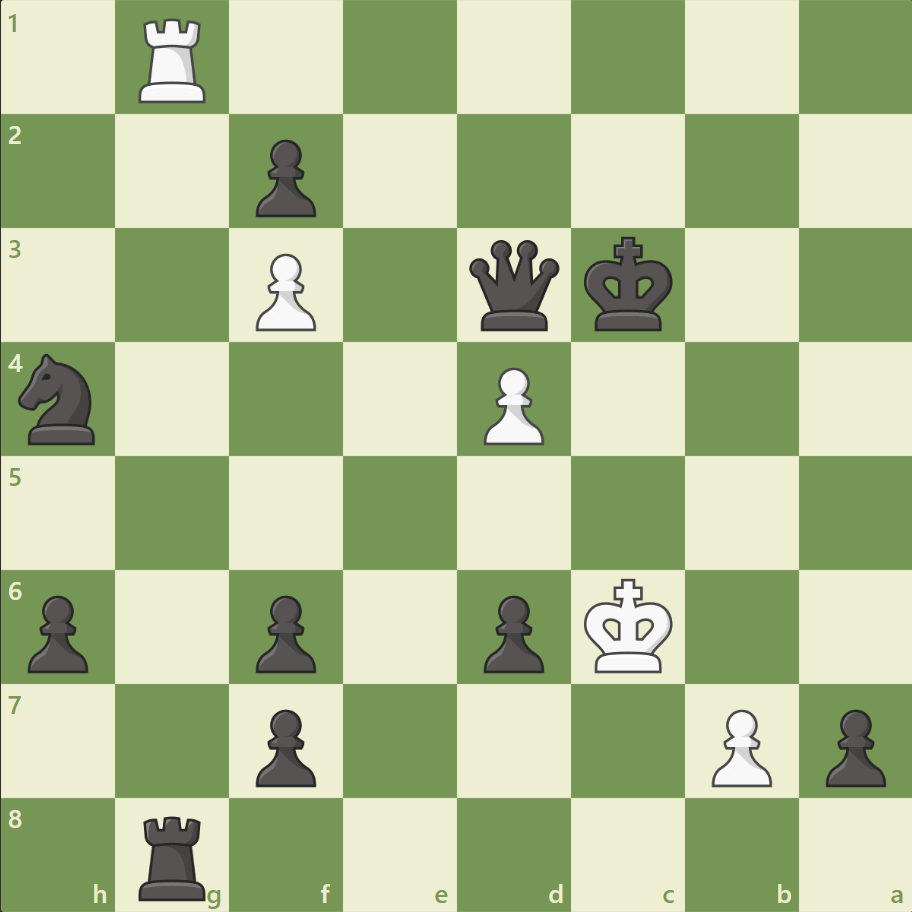K: (579, 571, 679, 679)
P: (701, 700, 776, 791), (474, 359, 549, 450), (247, 246, 322, 337)
R: (133, 12, 215, 109)
k: (579, 231, 679, 339)
n: (11, 348, 108, 450)
p: (247, 700, 322, 791), (474, 586, 549, 677), (247, 586, 322, 677), (20, 586, 95, 677), (247, 132, 322, 223), (815, 700, 889, 791)
q: (464, 236, 563, 335)
r: (133, 806, 215, 904)
